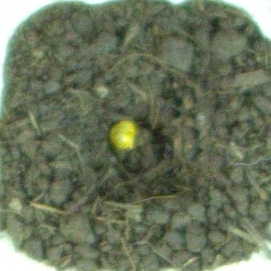chilli seed: (107, 118, 140, 152)
